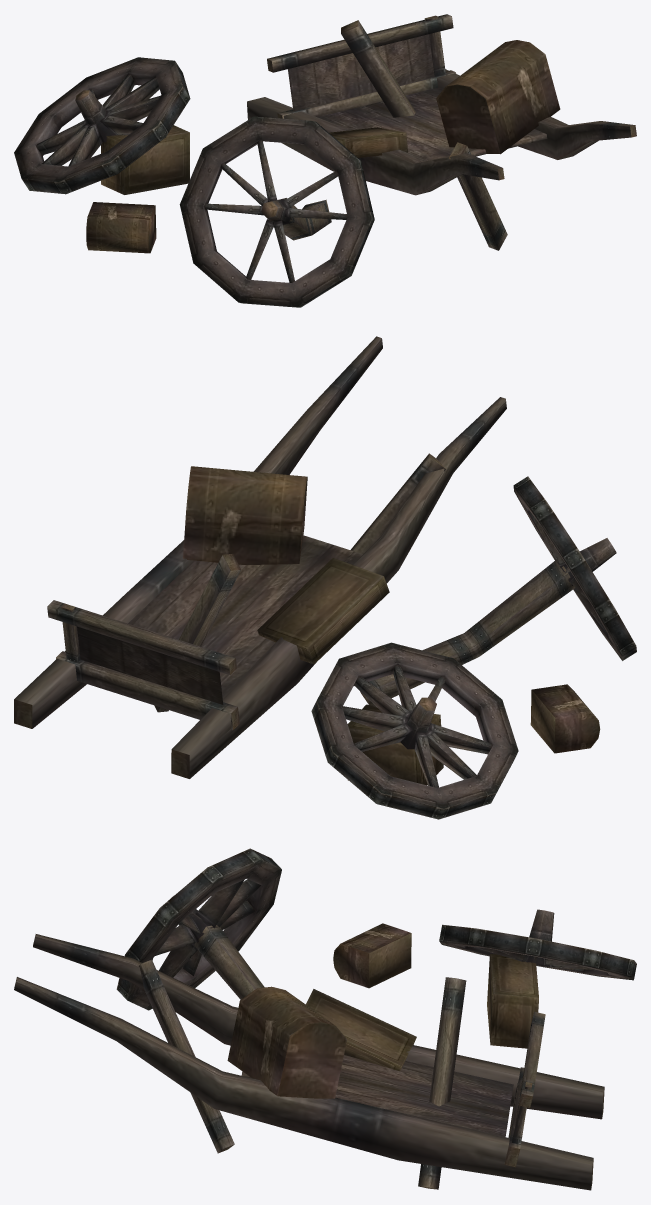
Rendered from cart01.FBX.
3 renders of one model, top to bottom at view 1: azimuth 30°, elevation 25°; view 2: azimuth 150°, elevation 25°; view 3: azimuth 270°, elevation 25°, orthographic. The views are drawn at different scales.
Visible parts, largest first — view 1: cart01; view 2: cart01; view 3: cart01.
Part boxes in pixels (x1,y1,x2,y2): cart01: (14, 14, 636, 307); cart01: (14, 336, 636, 819); cart01: (14, 848, 636, 1190).
Size of the model in its own units: 121 by 53.35 by 142.
